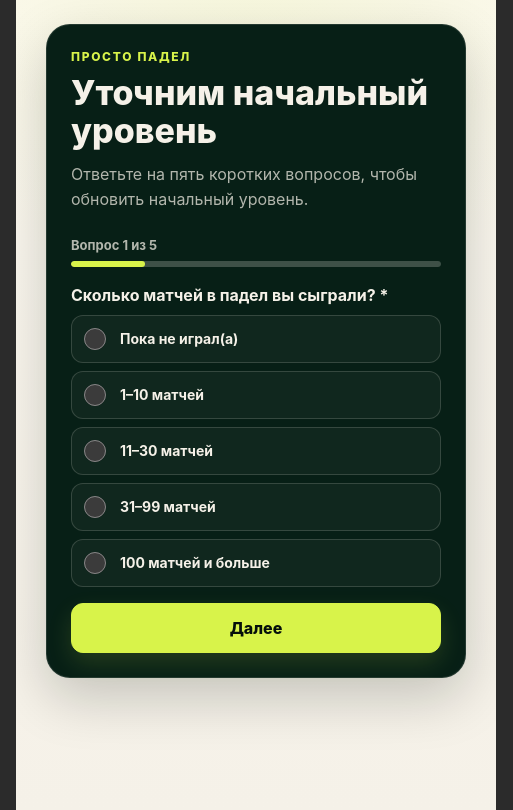
InitialLevelReassessmentGate › reports validation inline and does not log questionnaire data
The image size is (513, 810).
Click the button "Далее" at (256, 628), box [71,603,441,653]
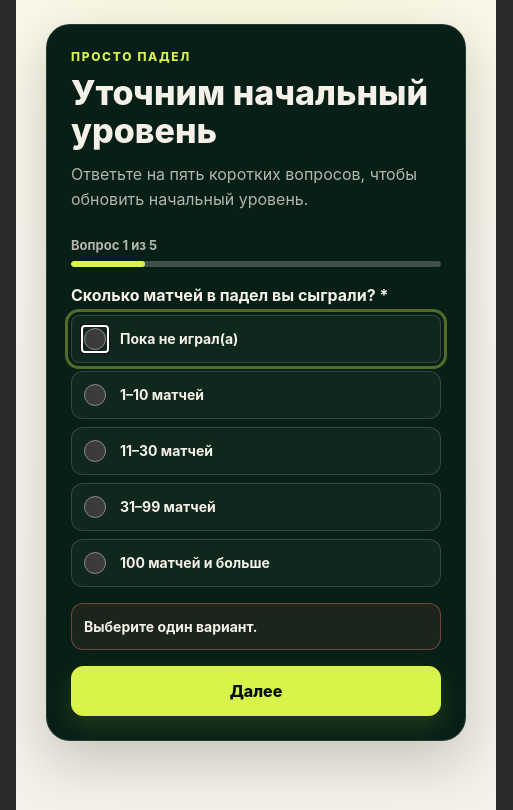
Expected: the message reads "Выберите один вариант.", [84,618,258,635]
